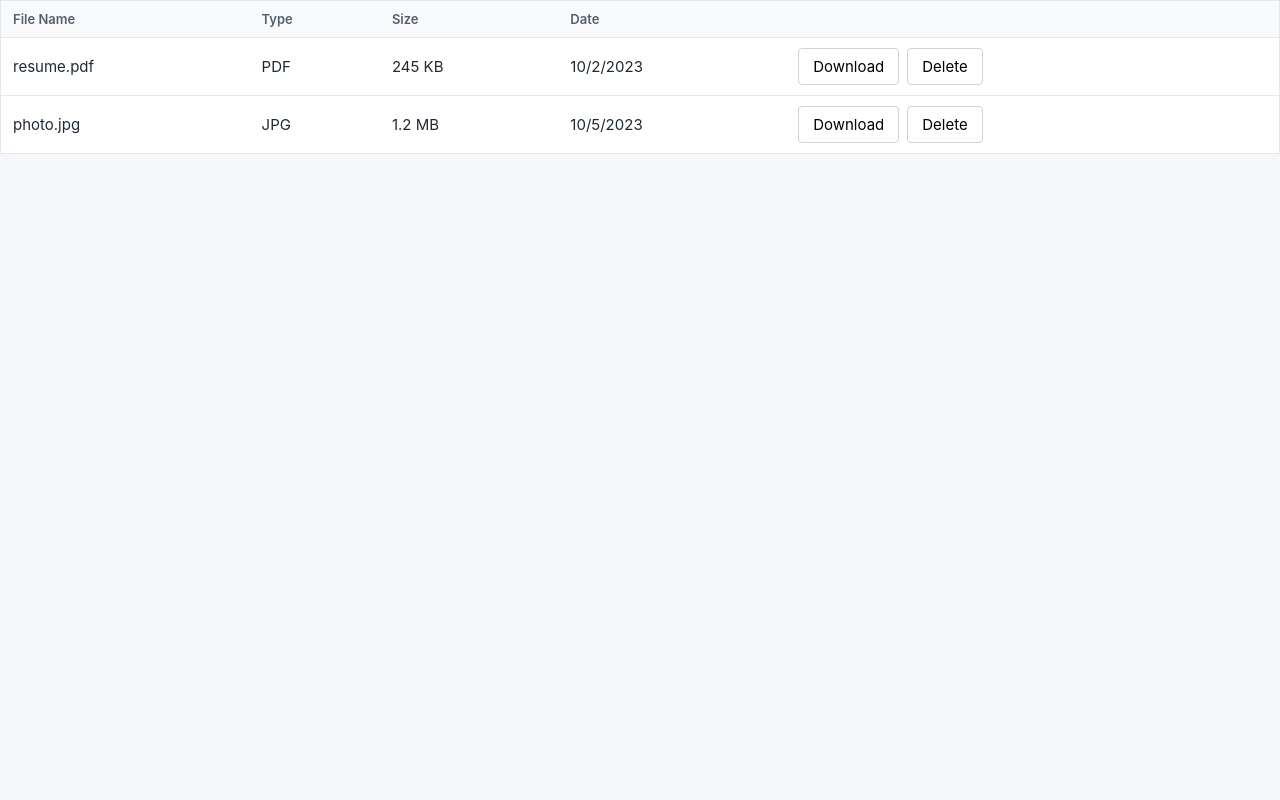
Test: deletes the file after confirming
Click the button "Delete" in the row of "photo.jpg". click: point(945, 124)
box: [907,106,983,143]
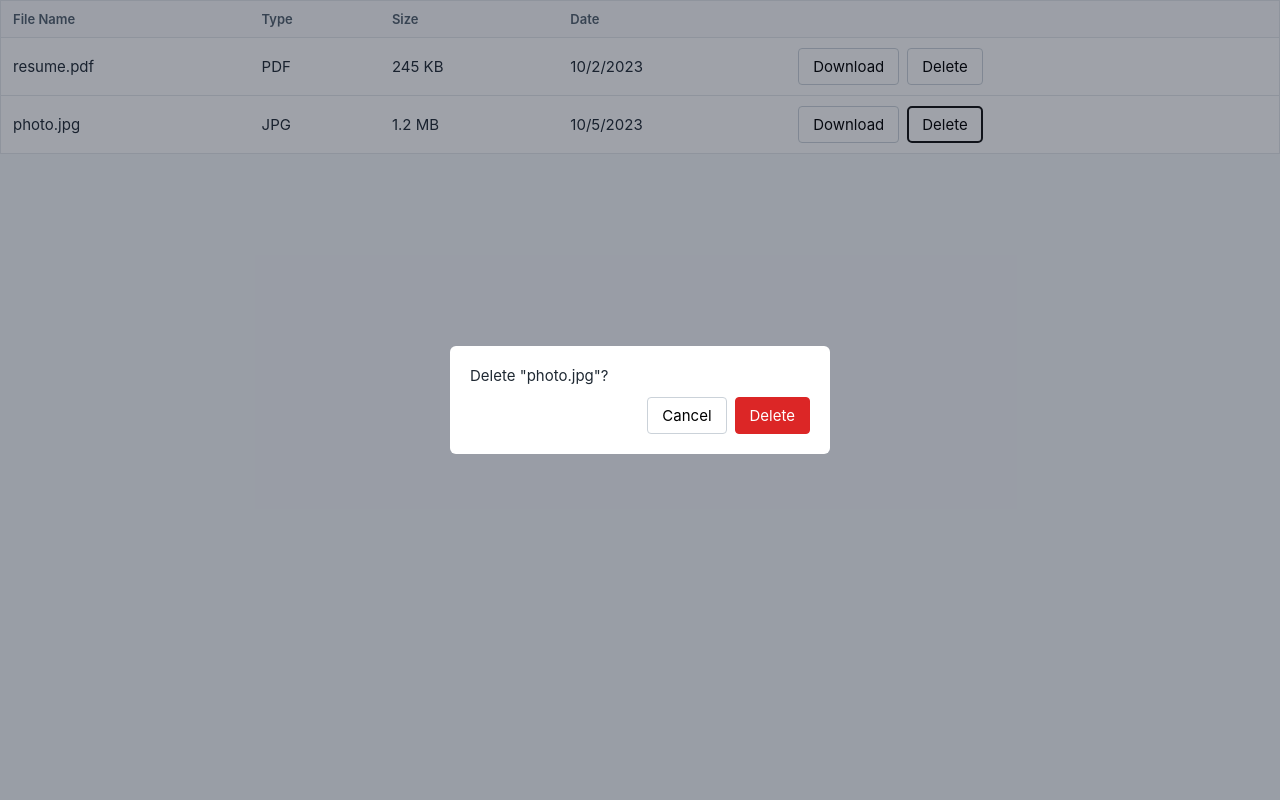
Click the button "Delete". click: point(772, 416)
box: [734,397,810,434]
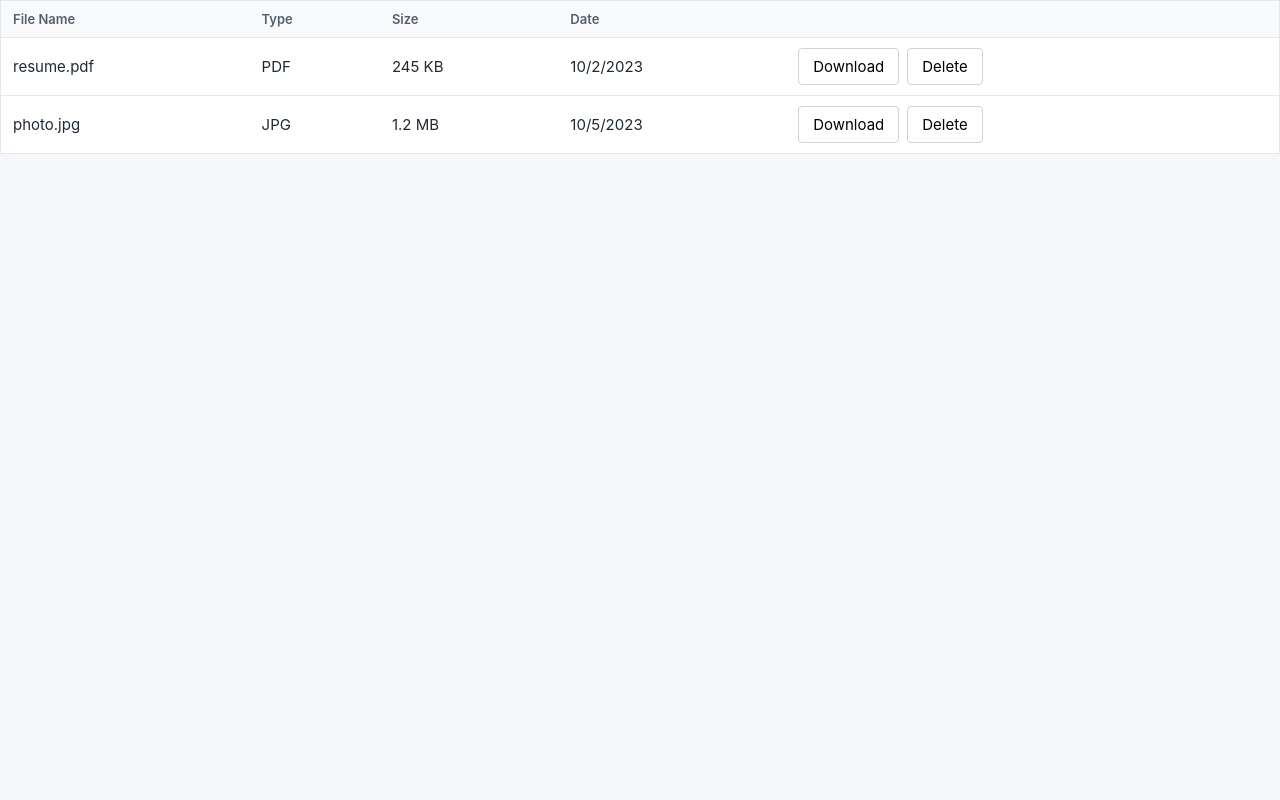
Now the dialog is gone
